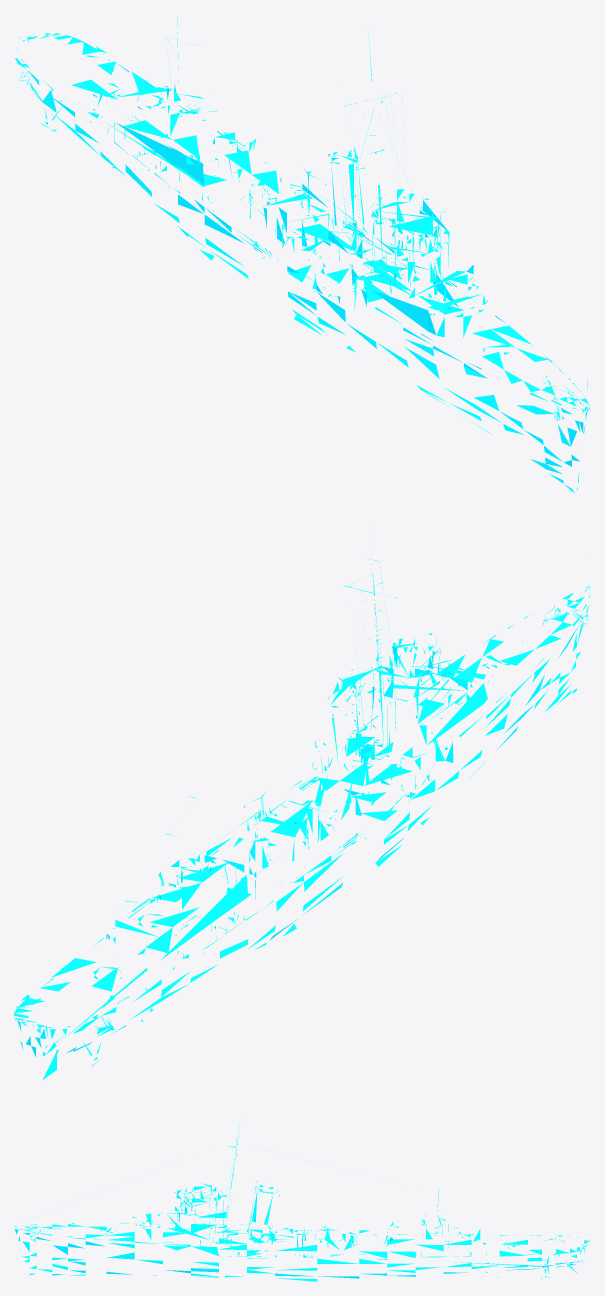
File: Sims.glb
The picture shows the model from 3 angles, top to bottom: view 1: azimuth 30°, elevation 25°; view 2: azimuth 150°, elevation 25°; view 3: azimuth 270°, elevation 25°; orthographic projection. The views are drawn at different scales.
Size of the model in its own units: 0.7629 by 2.26 by 7.12.
